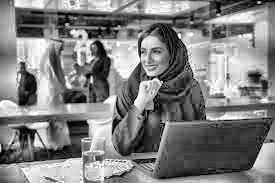happy: (134, 26, 189, 108)
